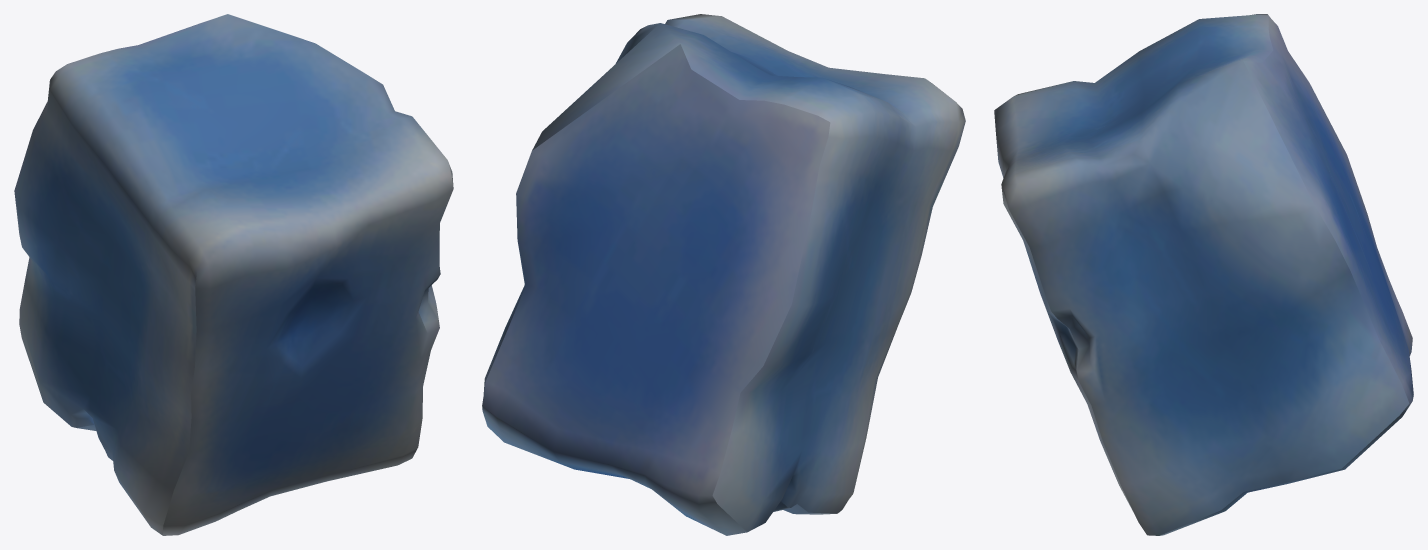
The model's file is p_dlc09_iceblock_02 (6)1.fbx.
3 views of the same model, side by side, from view 1: azimuth 30°, elevation 25°; view 2: azimuth 150°, elevation 25°; view 3: azimuth 270°, elevation 25° (orthographic). The views are drawn at different scales.
Visible parts, largest first — view 1: p_dlc09_iceblock_02 (6); view 2: p_dlc09_iceblock_02 (6); view 3: p_dlc09_iceblock_02 (6).
Part boxes in pixels (x1,y1,x2,y2): p_dlc09_iceblock_02 (6): [14, 14, 453, 535]; p_dlc09_iceblock_02 (6): [482, 14, 965, 535]; p_dlc09_iceblock_02 (6): [994, 14, 1413, 535].
Size of the model in its own units: 1.38 by 1.7 by 1.94.
Materials: 1 (1 with a texture image).
